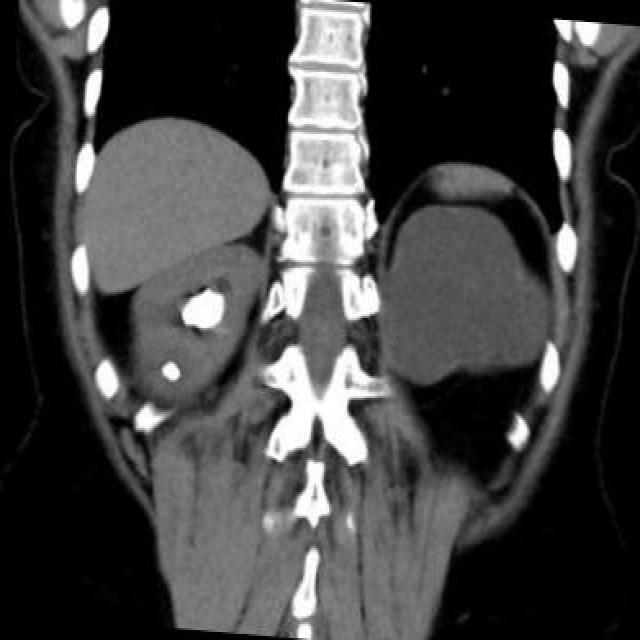Tas_Var: (172, 281, 227, 337), (156, 356, 183, 386)
